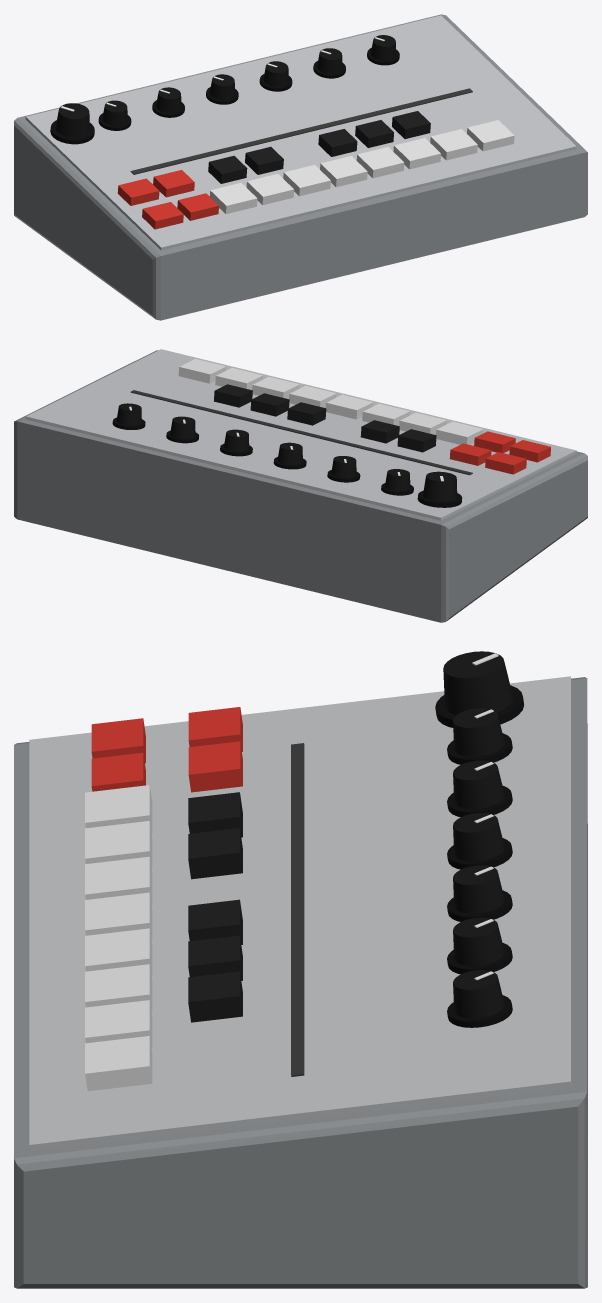
The picture shows the model from 3 angles, top to bottom: view 1: azimuth 30°, elevation 25°; view 2: azimuth 150°, elevation 25°; view 3: azimuth 270°, elevation 25°; orthographic projection. The views are drawn at different scales.
Visible parts, largest first — view 1: TB-303; view 2: TB-303; view 3: TB-303.
Part boxes in pixels (x1,y1,x2,y2): TB-303: [14, 14, 587, 320]; TB-303: [14, 349, 587, 622]; TB-303: [14, 651, 587, 1288].
Bounding box in the file's own units: 0.308 × 0.0844 × 0.176.
